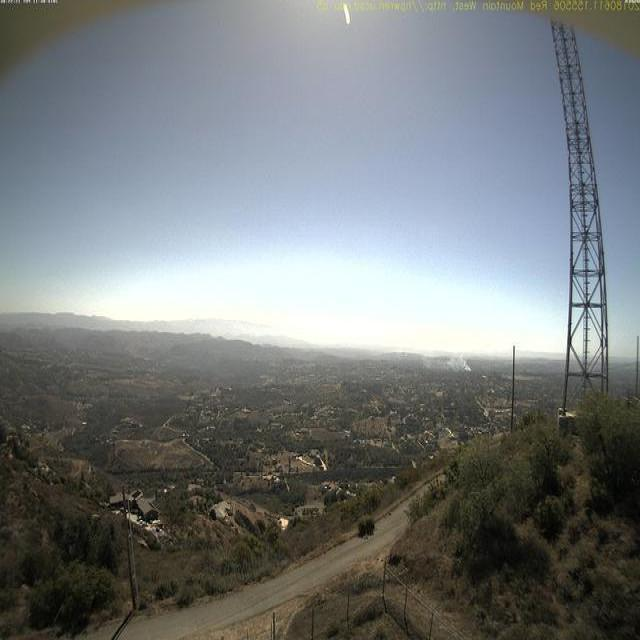Smoke: (445, 344, 473, 371)
